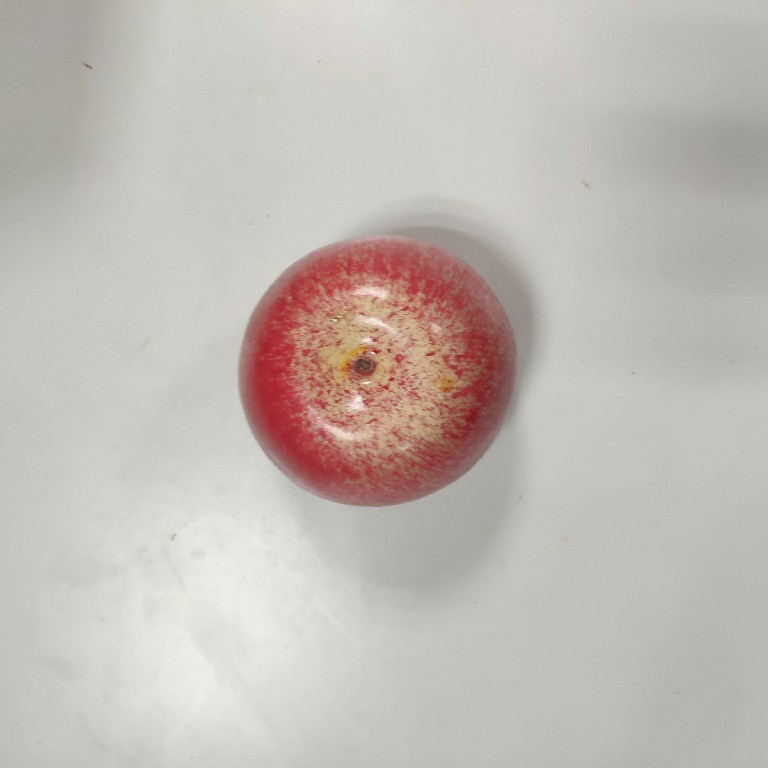fruit_apple: (229, 228, 525, 514)
